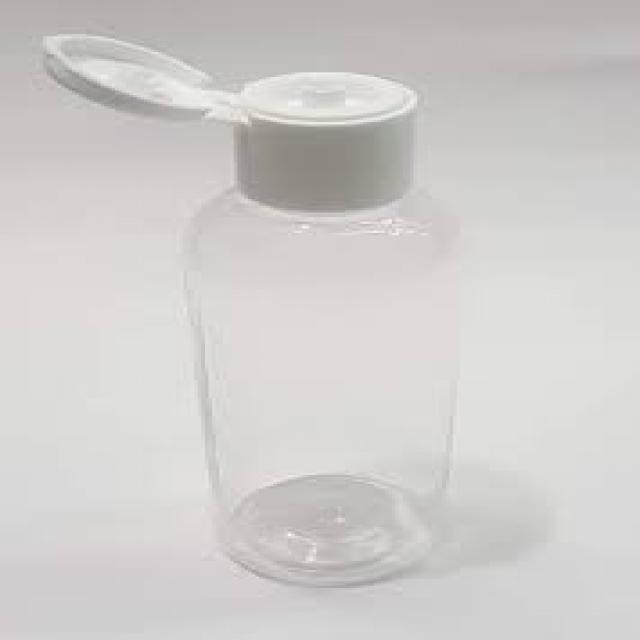Plastic: (34, 28, 460, 588)
